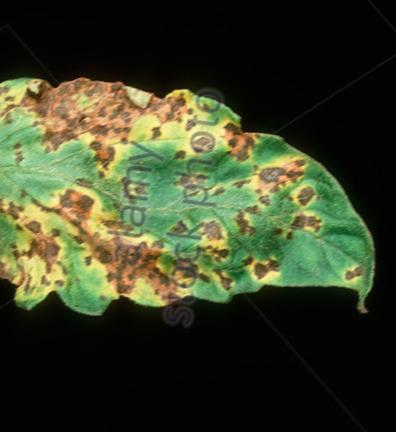Tomato Septoria leaf spot: (0, 44, 396, 366)
